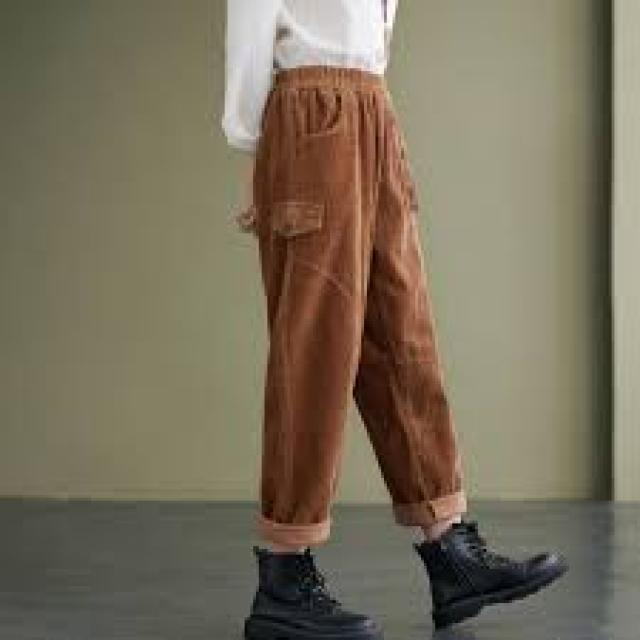long-pants: (250, 66, 468, 547)
